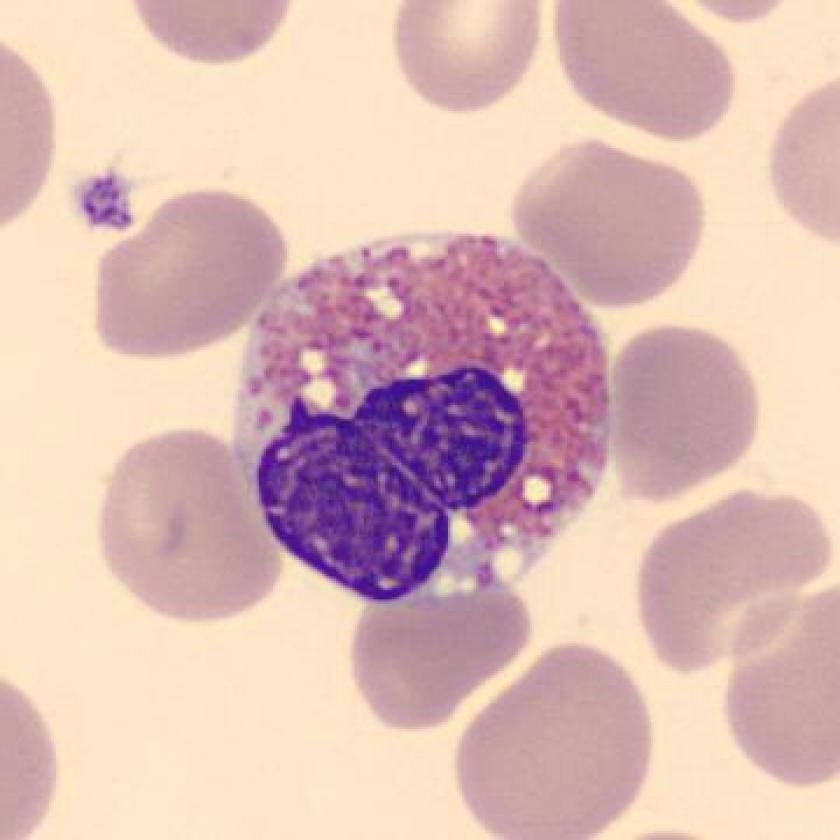eosinophil: (227, 219, 631, 617)
